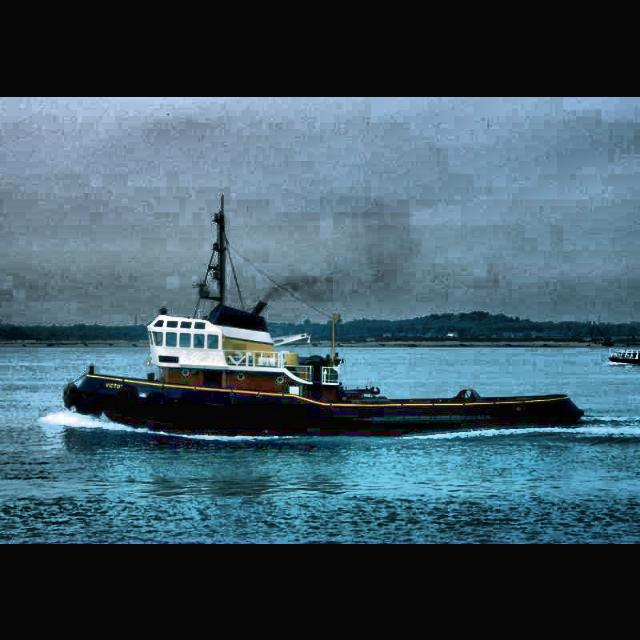tug: (63, 292, 584, 436)
